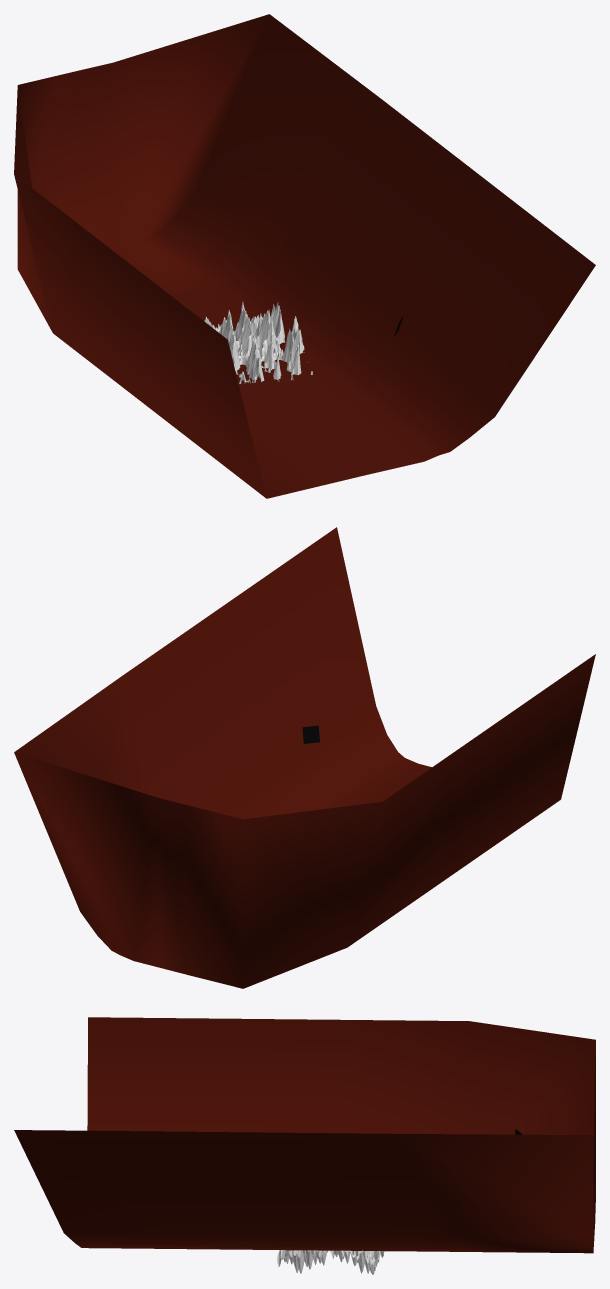
Rendered from snow.obj.
The picture shows the model from 3 angles, top to bottom: view 1: azimuth 30°, elevation 25°; view 2: azimuth 150°, elevation 25°; view 3: azimuth 270°, elevation 25°; orthographic projection. The views are drawn at different scales.
Visible parts, largest first — view 1: stilllife, Grid; view 2: stilllife; view 3: stilllife, Grid.
Part boxes in pixels (x1,y1,x2,y2): stilllife: (14,14,595,498); Grid: (204,301,312,383); stilllife: (14,527,595,988); stilllife: (14,1017,595,1253); Grid: (277,1250,384,1274).
Size of the model in its own units: 394 by 258 by 689.
